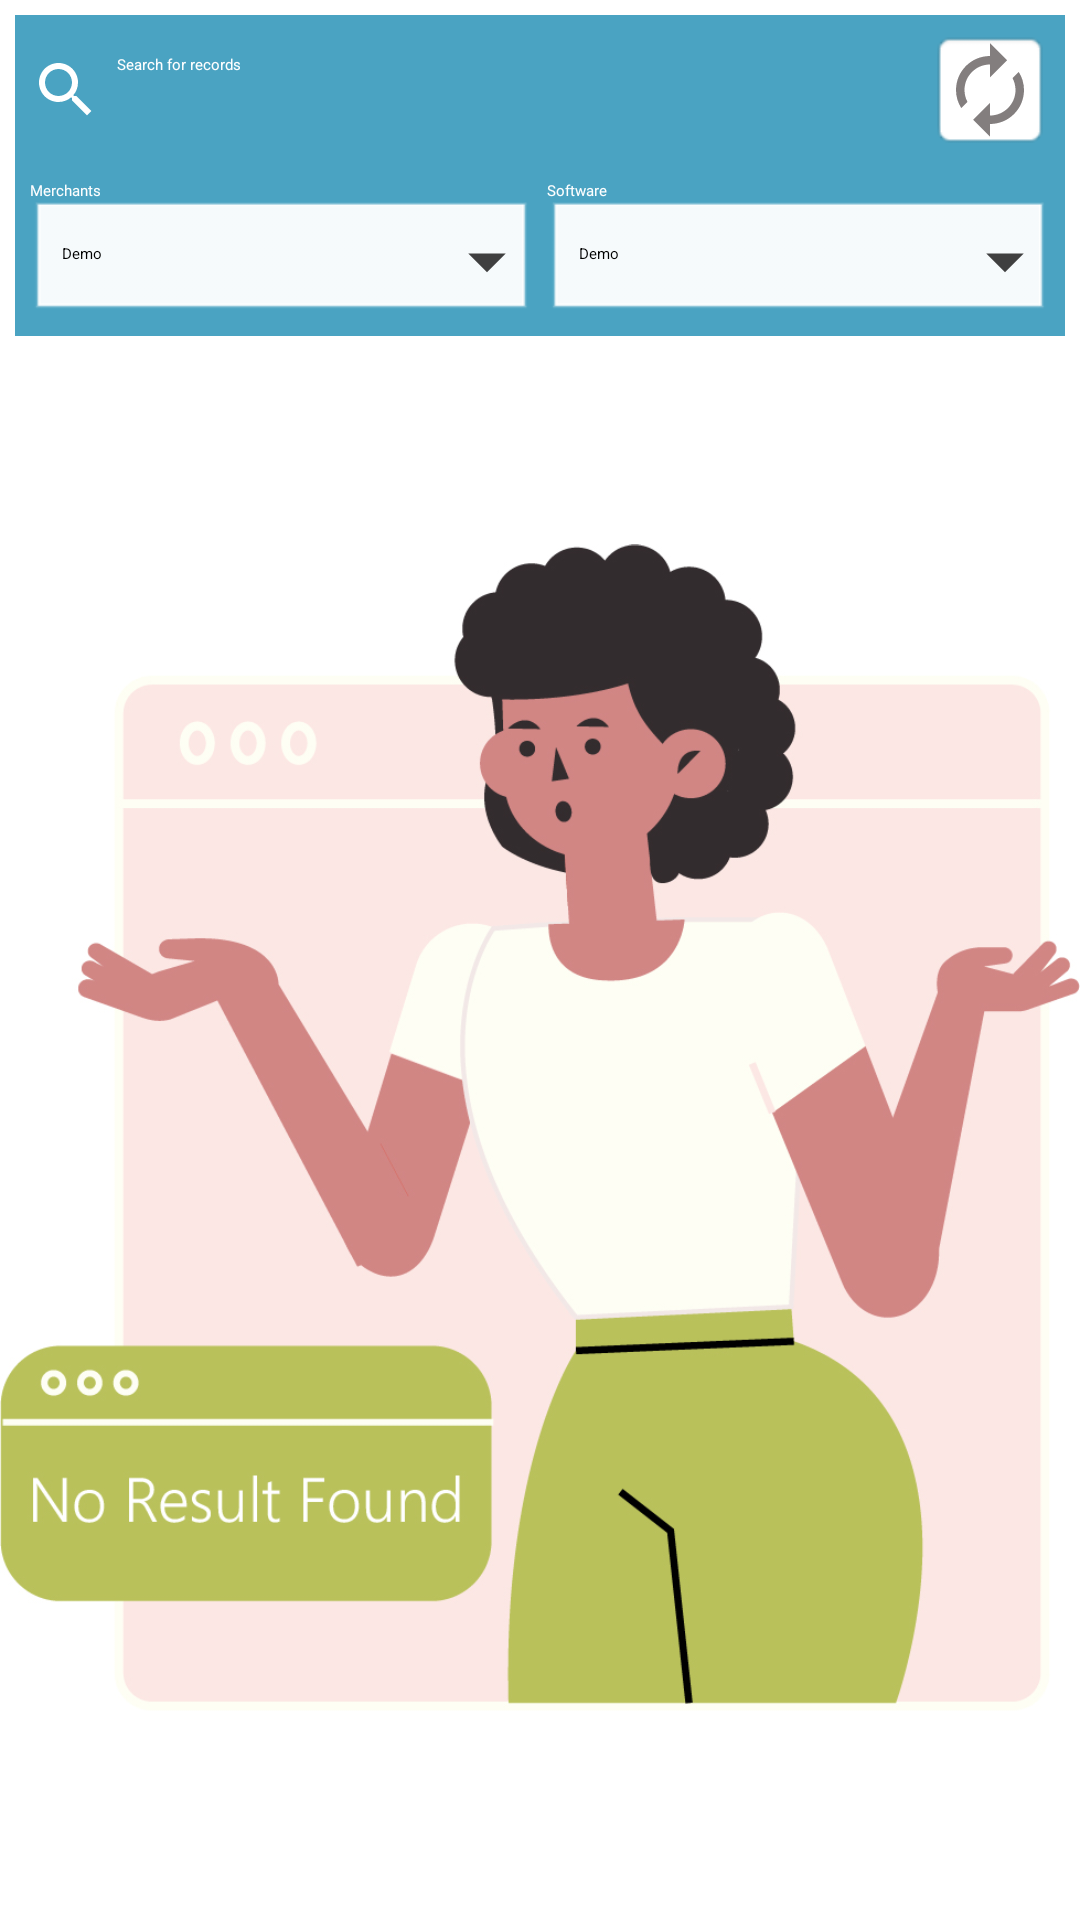

Where to tap for icons on this 1080*1920 app screen, as point (x, y):
refresh: point (990, 90)
